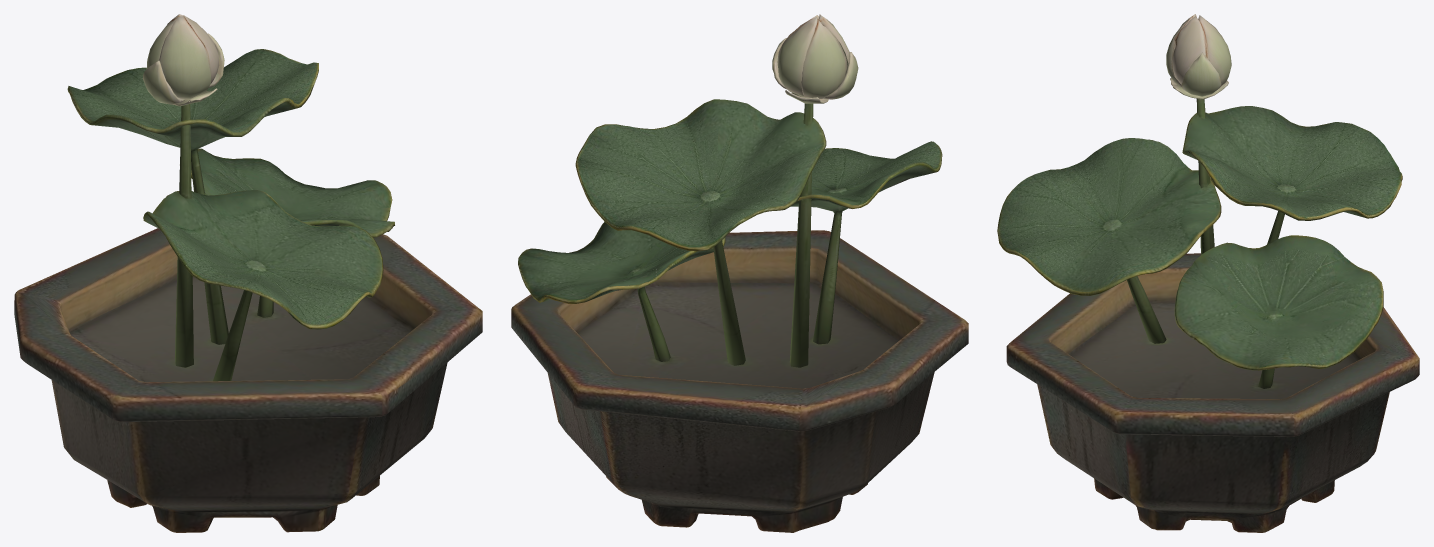
File: tripo_convert_fee620eb-154a-4b5d-b51e-188f8414a90c.fbx
3 renders of one model, left to right at view 1: azimuth 30°, elevation 25°; view 2: azimuth 150°, elevation 25°; view 3: azimuth 270°, elevation 25°, orthographic. The views are drawn at different scales.
Parts seen in each view (by area): view 1: tripo_node_fee620eb; view 2: tripo_node_fee620eb; view 3: tripo_node_fee620eb.
Boxes of the visible parts, <box> form: tripo_node_fee620eb: <box>14,14,482,532</box>; tripo_node_fee620eb: <box>511,14,968,532</box>; tripo_node_fee620eb: <box>997,14,1419,532</box>.
Bounding box in the file's own units: 0.8066 × 0.998 × 0.8691.
Materials: 1 (1 with a texture image).
